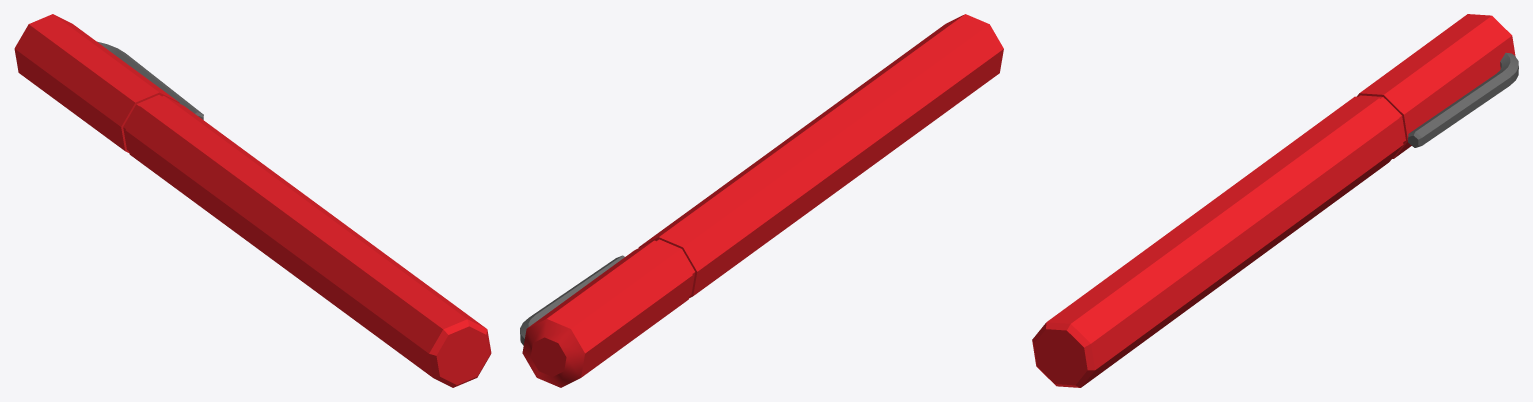
File: Lapiz01.fbx
3 renders of one model, left to right at view 1: azimuth 30°, elevation 25°; view 2: azimuth 150°, elevation 25°; view 3: azimuth 330°, elevation 25°, orthographic.
Visible parts, largest first — view 1: Lapiz01; view 2: Lapiz01; view 3: Lapiz01.
Part boxes in pixels (left/top/right/bottom): Lapiz01: left=14, top=14, right=491, bottom=387; Lapiz01: left=520, top=14, right=1003, bottom=387; Lapiz01: left=1032, top=14, right=1518, bottom=387.
Size of the model in its own units: 0.0122 by 0.00912 by 0.1059.
